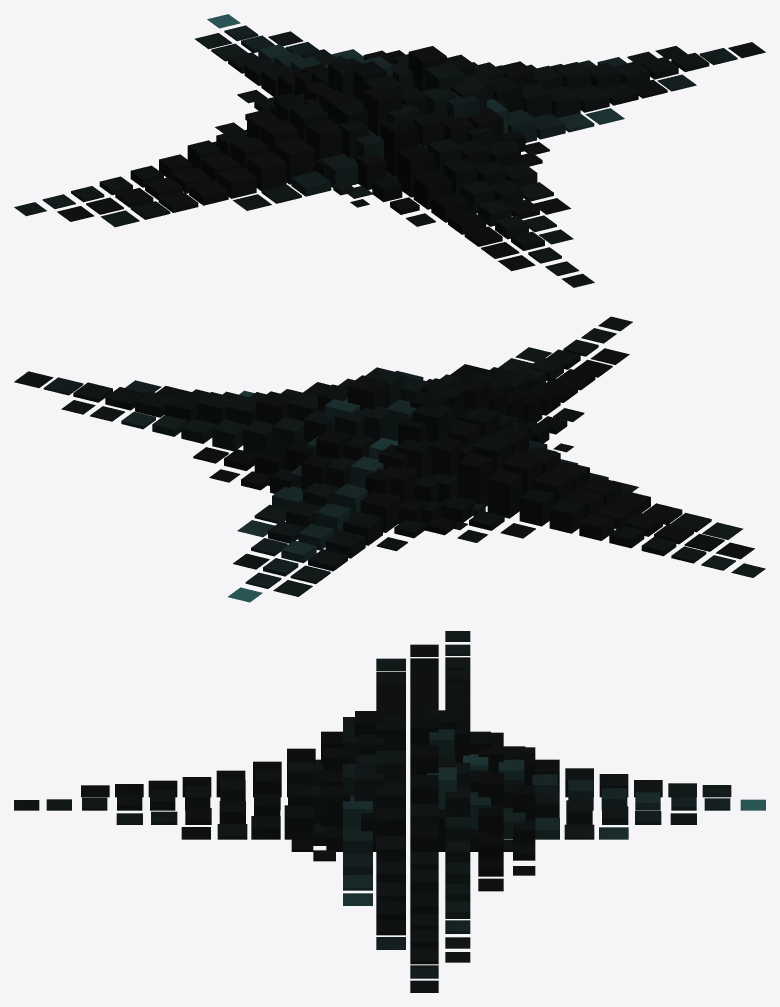
File: VoxelsPedental_0.fbx
3 renders of one model, top to bottom at view 1: azimuth 30°, elevation 25°; view 2: azimuth 150°, elevation 25°; view 3: azimuth 270°, elevation 25°, orthographic. The views are drawn at different scales.
Visible parts, largest first — view 1: MM_VoxelPedestal; view 2: MM_VoxelPedestal; view 3: MM_VoxelPedestal.
Part boxes in pixels (<box>): MM_VoxelPedestal: <box>14,14,765,287</box>; MM_VoxelPedestal: <box>14,316,765,602</box>; MM_VoxelPedestal: <box>14,631,765,992</box>.
Size of the model in its own units: 276 by 27.1 by 242.
